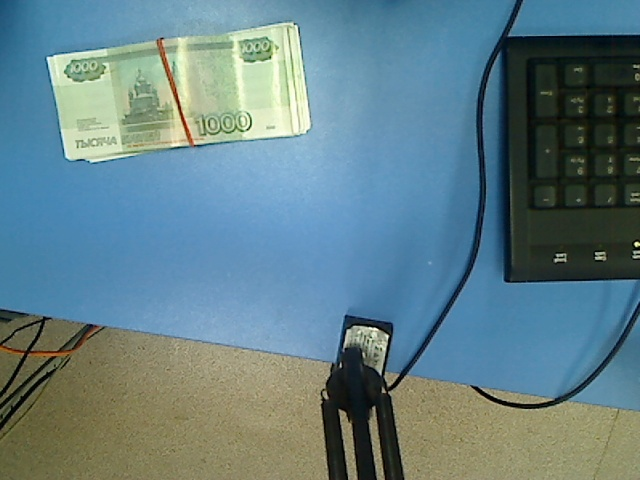banknotes: (44, 19, 313, 167)
